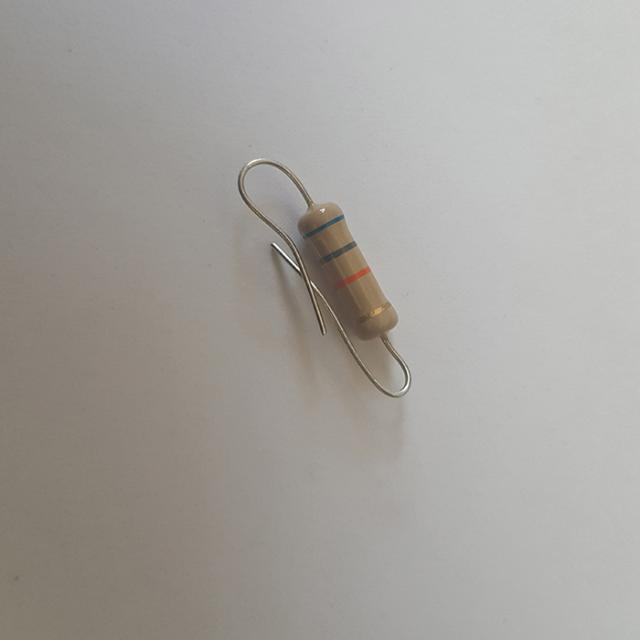blue: (302, 215, 344, 237)
gold: (358, 302, 389, 320)
grey: (321, 240, 357, 261)
orange: (334, 267, 369, 286)
resistor: (281, 184, 426, 364)
